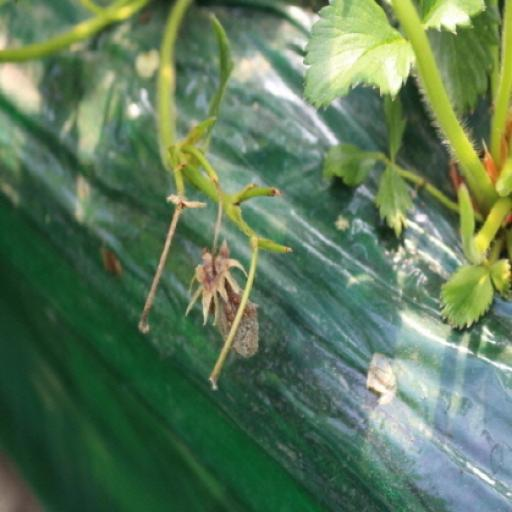Gray Mold: (186, 235, 261, 359)
